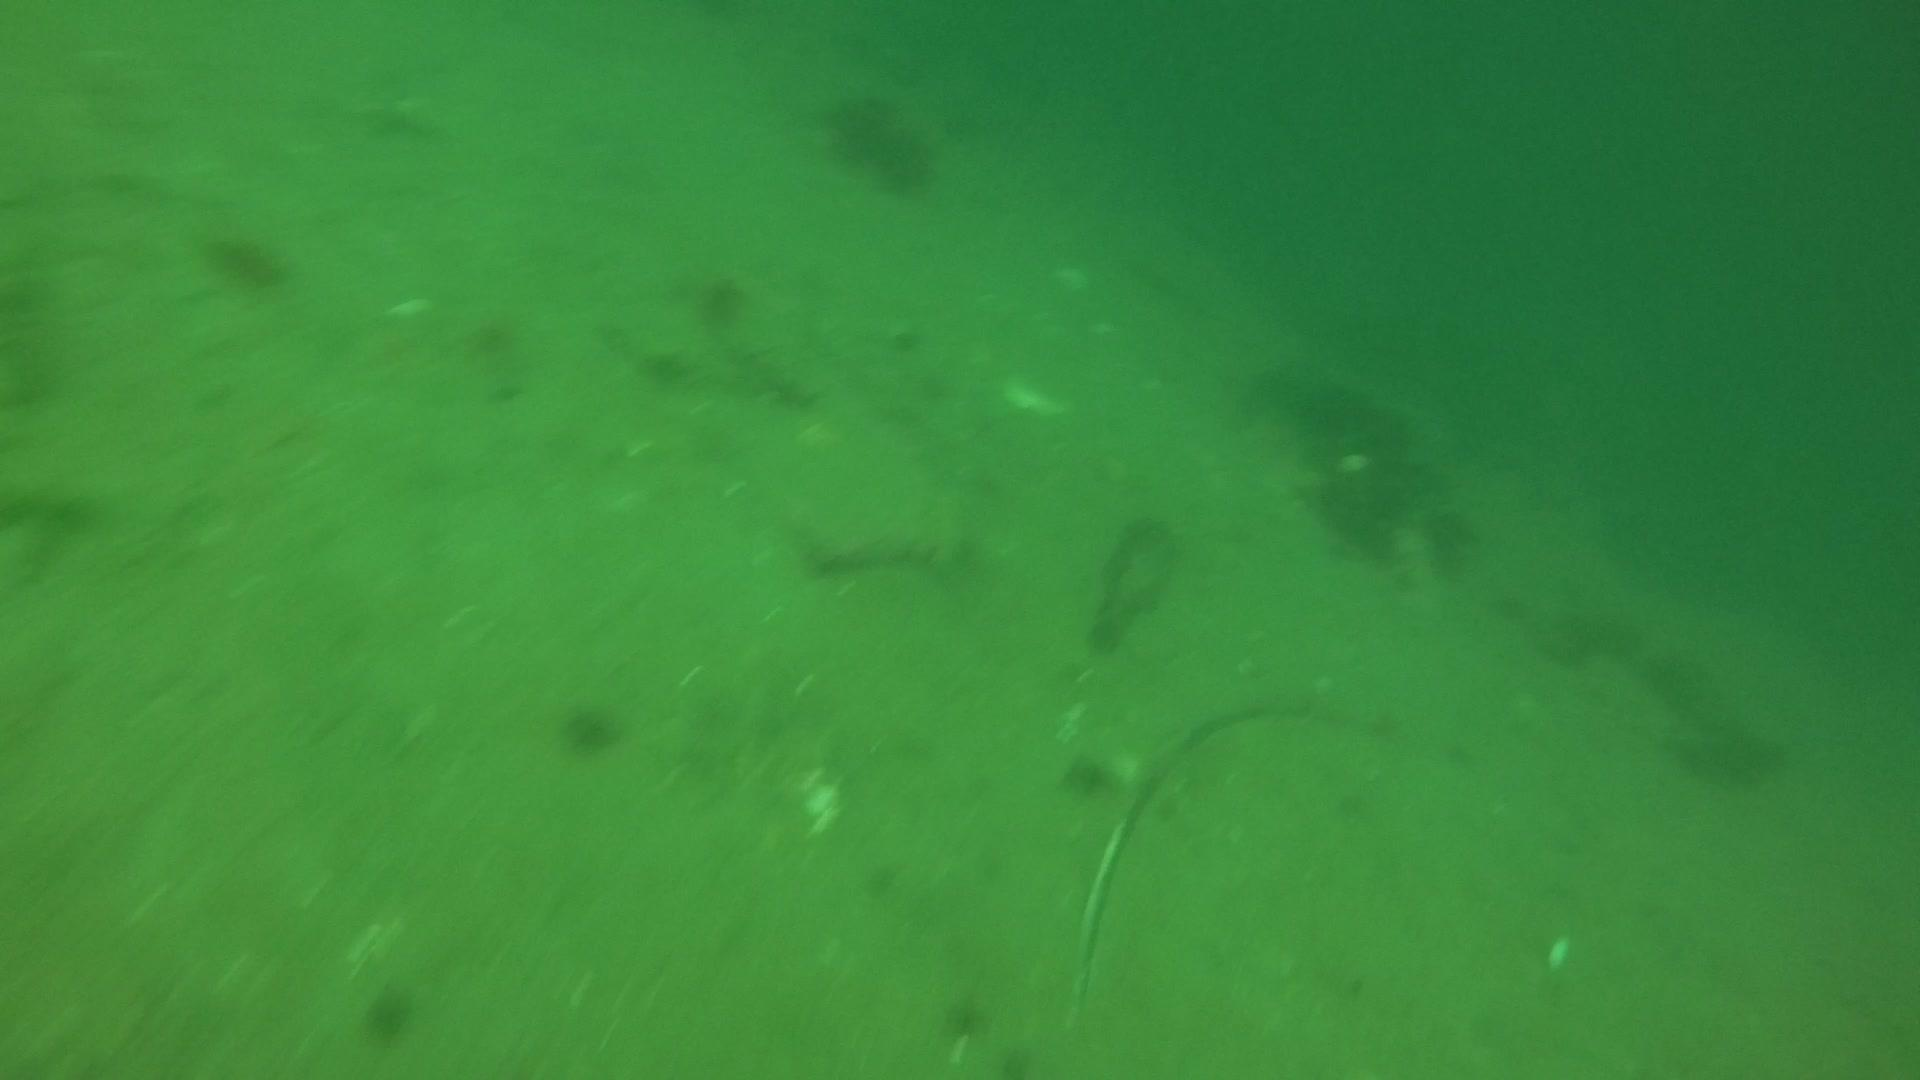holothurian: (699, 330, 825, 421)
